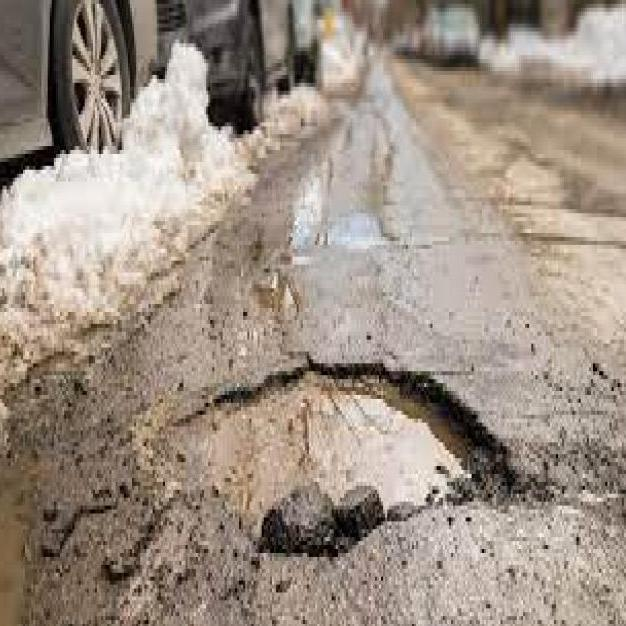pothole: (162, 346, 534, 565)
